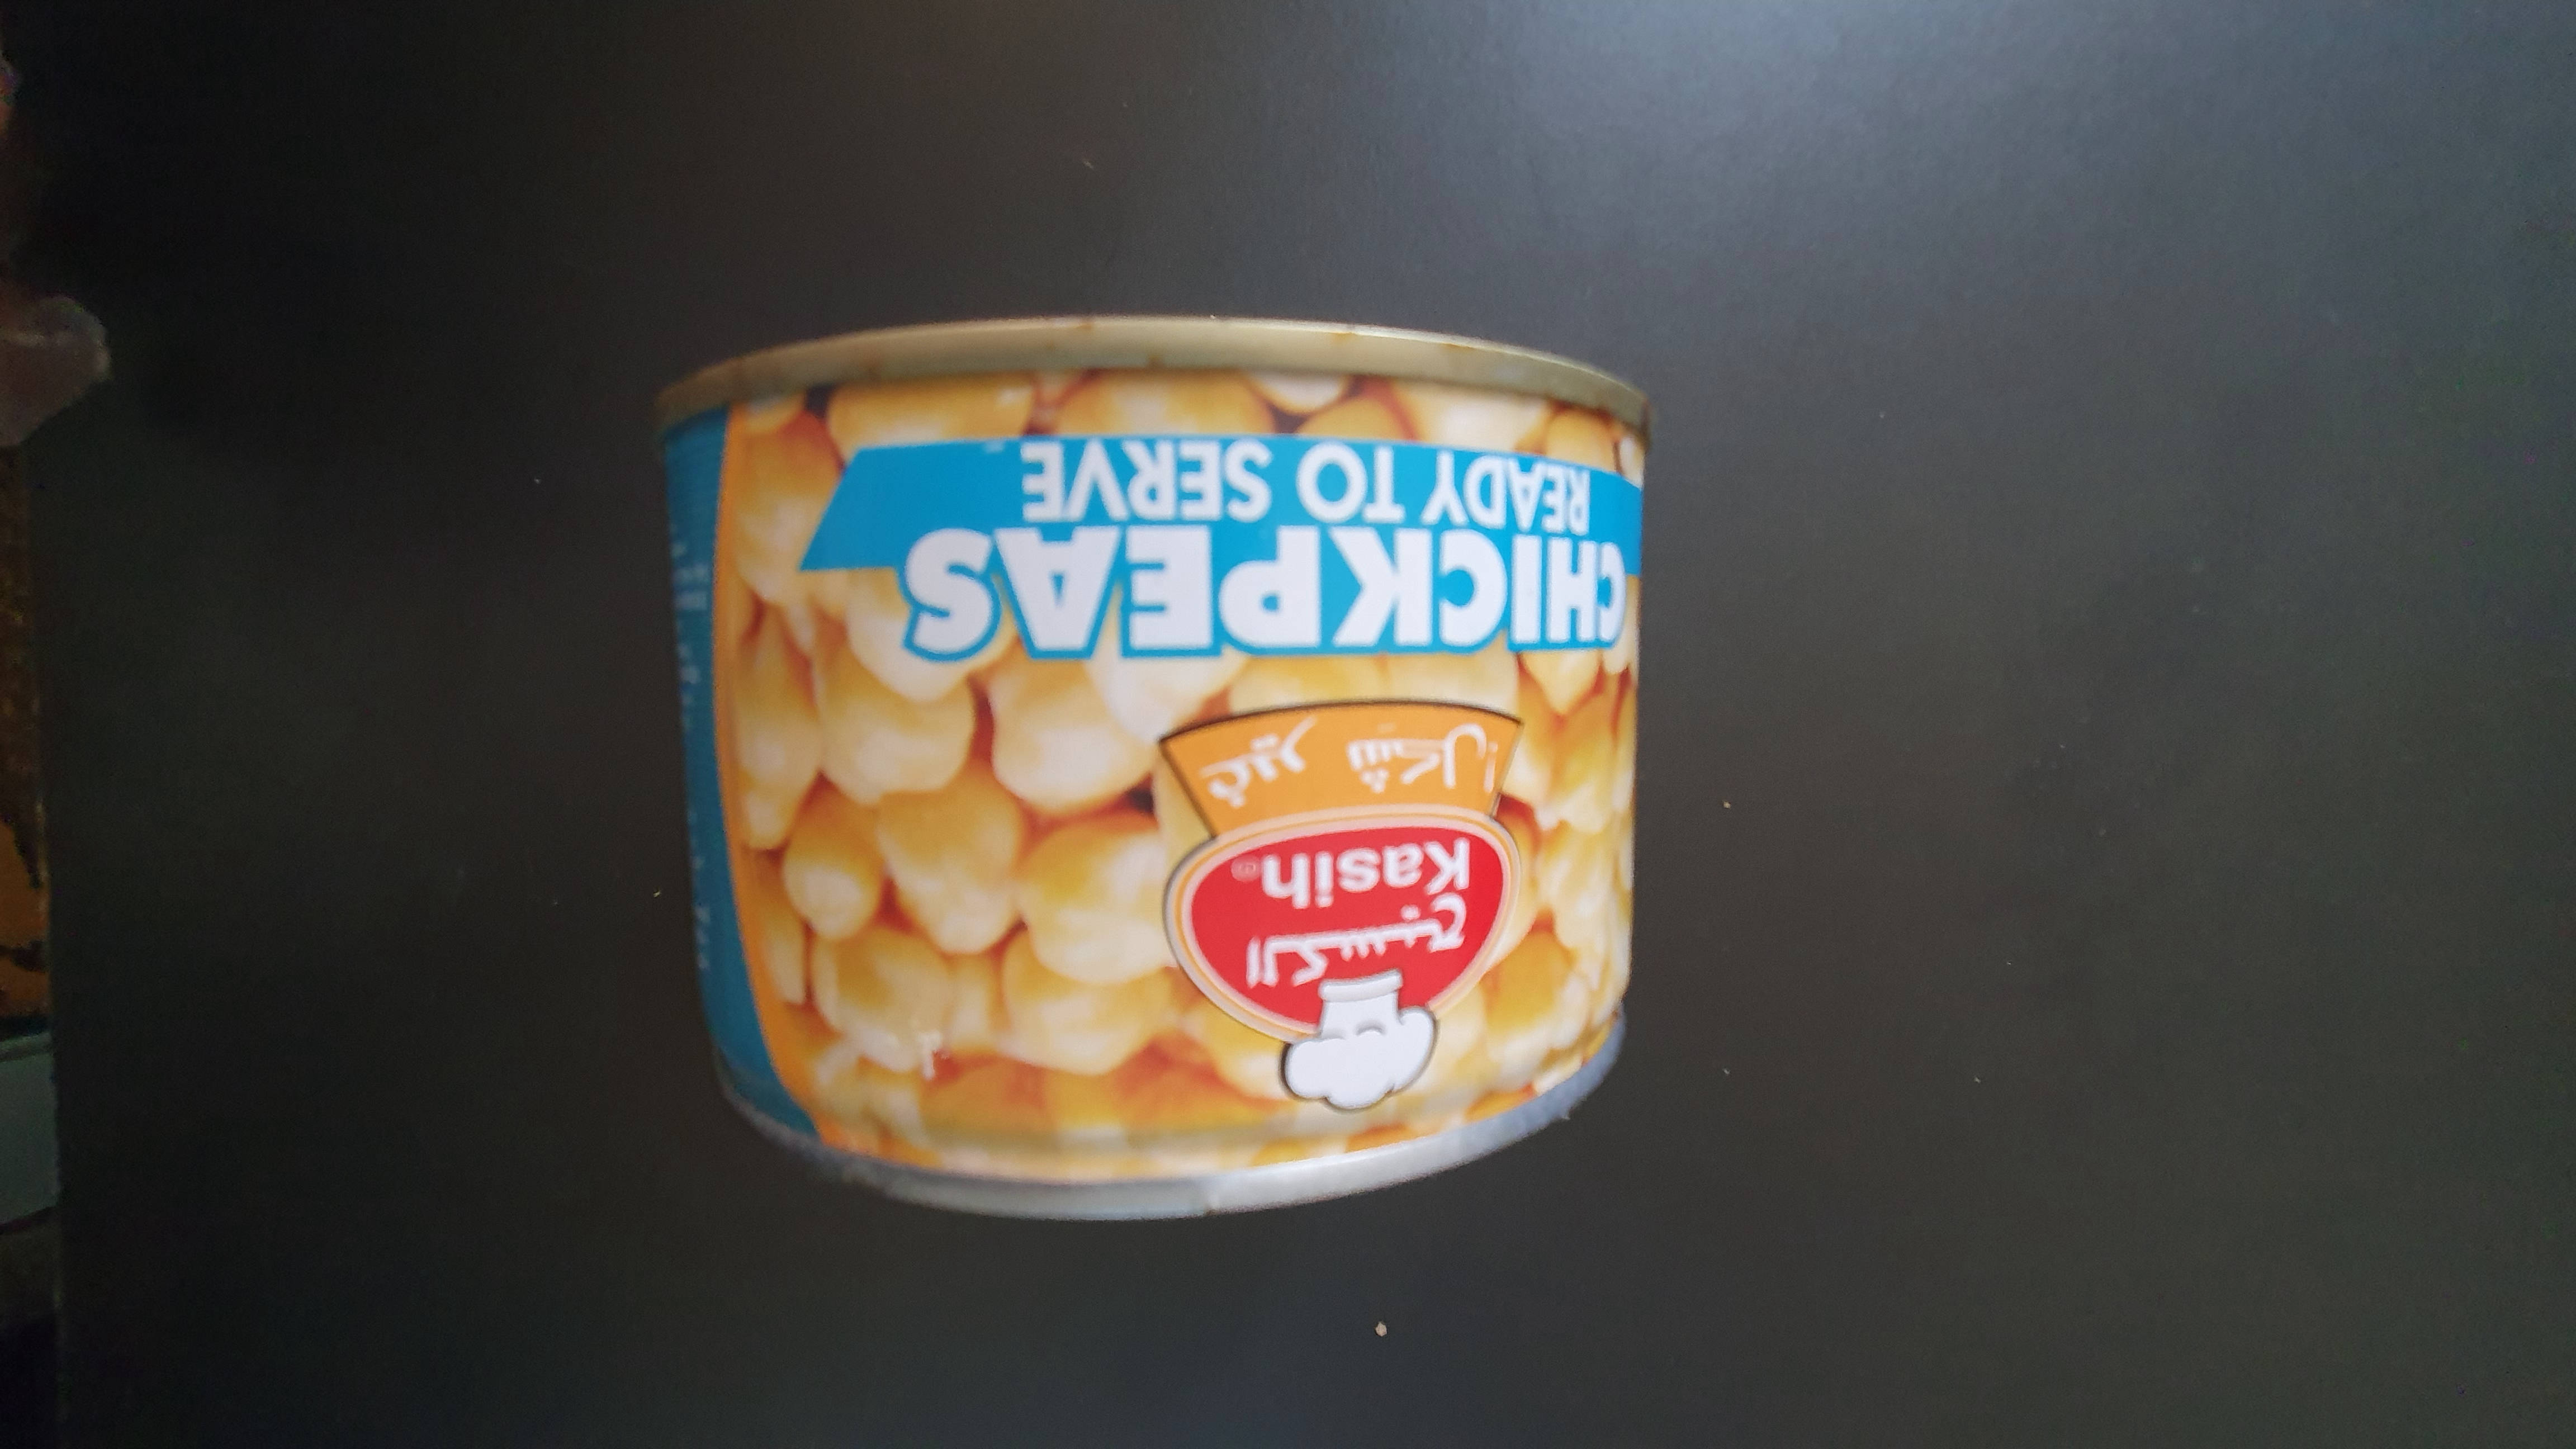metal: (639, 288, 1660, 1261)
